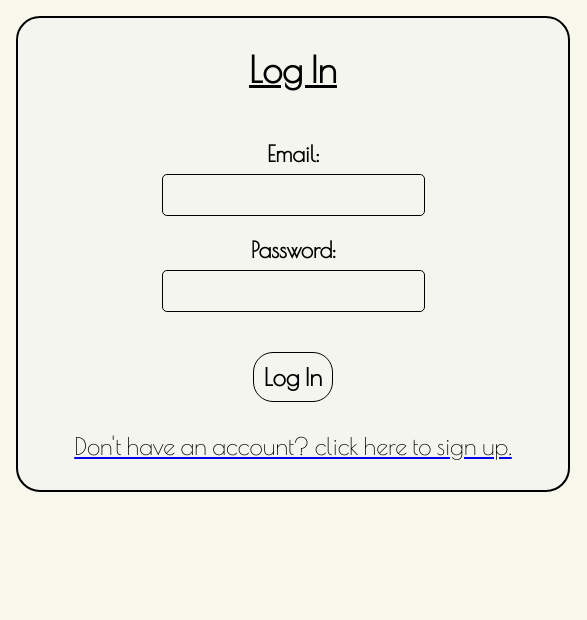
Test: Login › success › shows success message when log in is successful
The image size is (587, 620).
Type "email@email.com" into the field labelled "Email:".
click(293, 195); type("email@email.com")  # box left=162, top=174, right=424, bottom=216
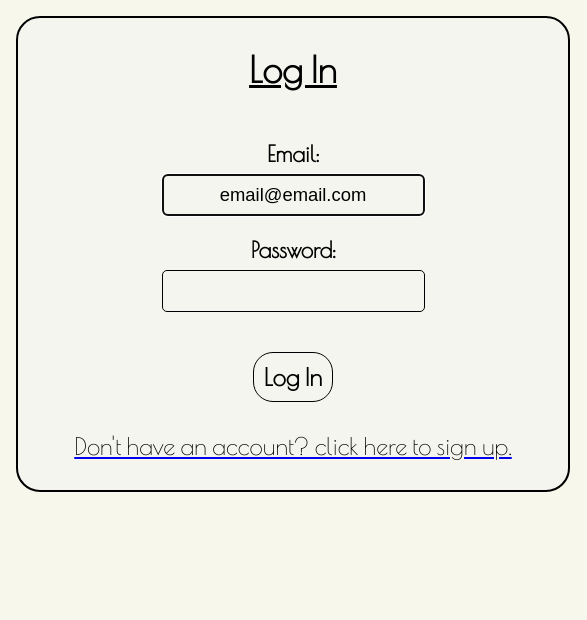
Type "password1" into the password field labelled "Password:".
click(293, 291); type("password1")  # box left=162, top=270, right=424, bottom=312
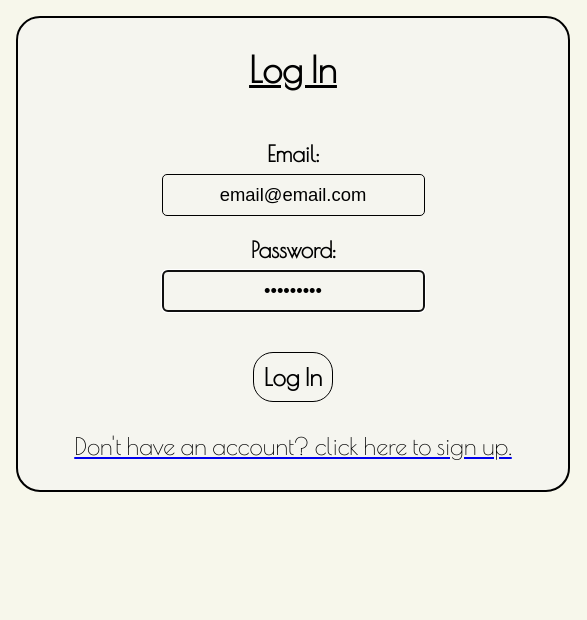
Click the button with test id "log-in-button".
click(293, 377)  # box left=253, top=352, right=333, bottom=402
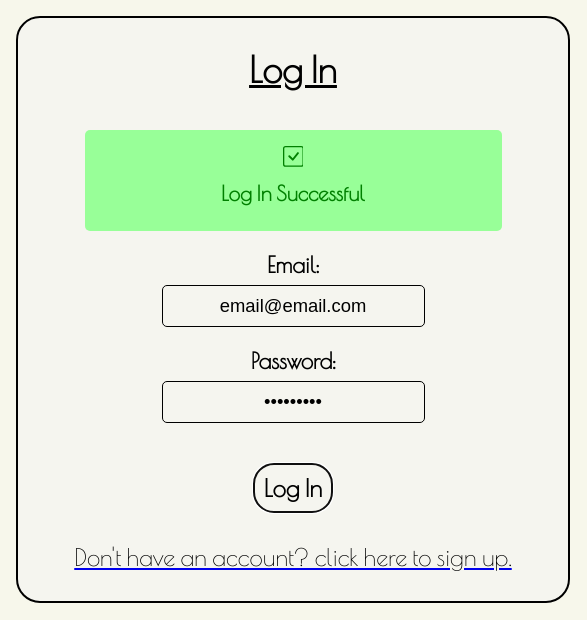
Result: the text "Log In Successful" is shown at left=221, top=181, right=365, bottom=205
